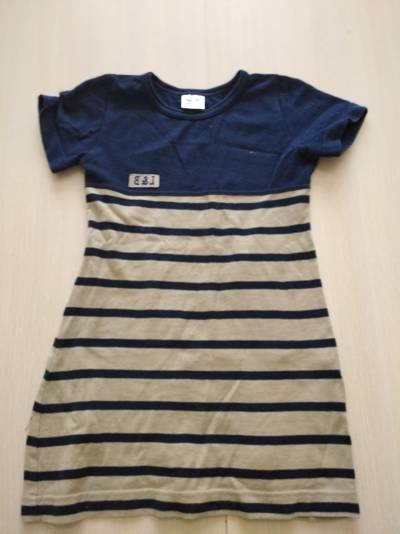Dress: (20, 54, 400, 526)
